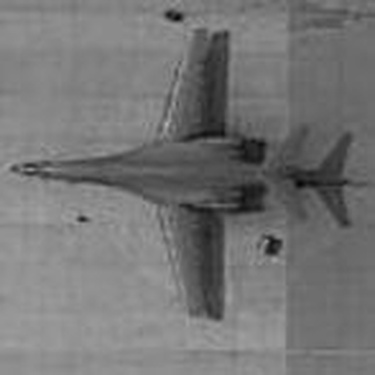airplane: (1, 39, 369, 334)
